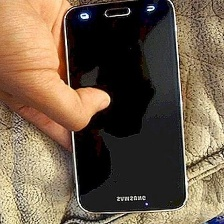phone: (60, 0, 194, 217)
